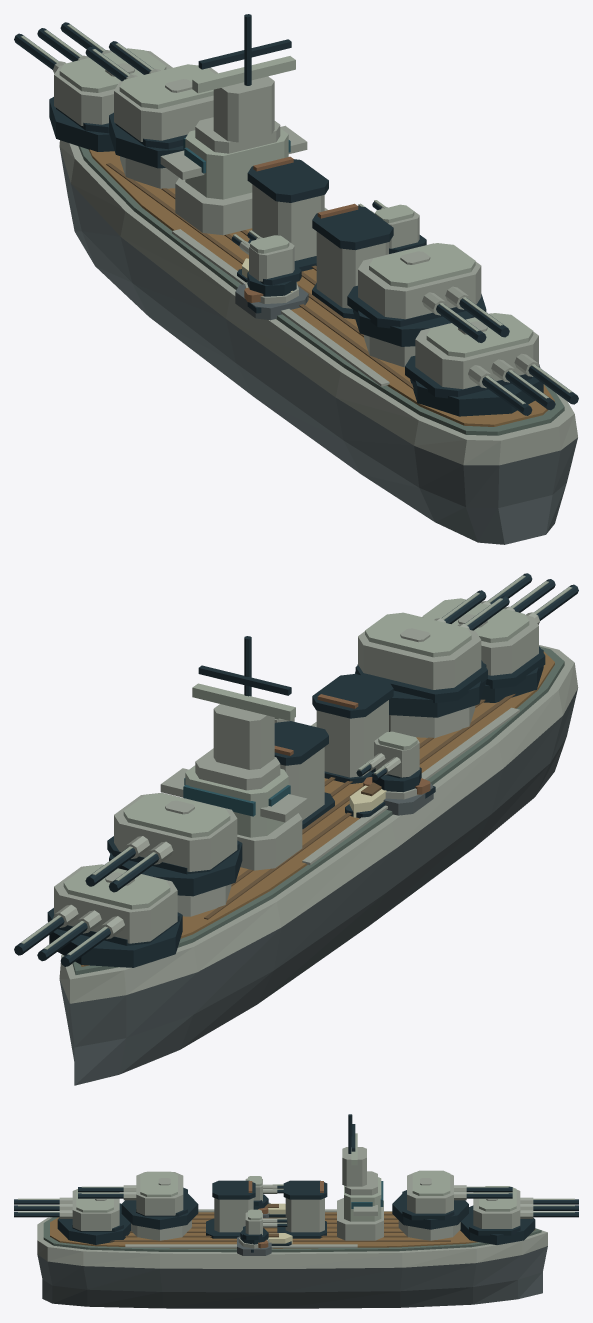
Rendered from historic-giulio-cesare.glb.
3 views of the same model, one above another, from view 1: azimuth 30°, elevation 25°; view 2: azimuth 150°, elevation 25°; view 3: azimuth 270°, elevation 25° (orthographic). The views are drawn at different scales.
Visible parts, largest first — view 1: historic-giulio-cesare-historic-giulio-cesare-geometry, historic-giulio-cesare-part_bridge.038-geometry, historic-giulio-cesare-turret_main_3.014-geometry, historic-giulio-cesare-turret_main_2.026-geometry, historic-giulio-cesare-turret_main_1.027-geometry, historic-giulio-cesare-turret_main_0.028-geometry, historic-giulio-cesare-historic_funnel_0.039-geometry, historic-giulio-cesare-historic_funnel_1.018-geometry, historic-giulio-cesare-turret_aa_aa-port.040-geometry, historic-giulio-cesare-turret_aa_aa-starboard.038-geometry, historic-giulio-cesare-part_aa-port.040-geometry; view 2: historic-giulio-cesare-historic-giulio-cesare-geometry, historic-giulio-cesare-part_bridge.038-geometry, historic-giulio-cesare-turret_main_0.028-geometry, historic-giulio-cesare-turret_main_2.026-geometry, historic-giulio-cesare-turret_main_1.027-geometry, historic-giulio-cesare-turret_main_3.014-geometry, historic-giulio-cesare-historic_funnel_1.018-geometry, historic-giulio-cesare-historic_funnel_0.039-geometry, historic-giulio-cesare-turret_aa_aa-port.040-geometry, historic-giulio-cesare-part_aa-port.040-geometry; view 3: historic-giulio-cesare-historic-giulio-cesare-geometry, historic-giulio-cesare-turret_main_1.027-geometry, historic-giulio-cesare-turret_main_2.026-geometry, historic-giulio-cesare-turret_main_0.028-geometry, historic-giulio-cesare-turret_main_3.014-geometry, historic-giulio-cesare-part_bridge.038-geometry, historic-giulio-cesare-historic_funnel_0.039-geometry, historic-giulio-cesare-historic_funnel_1.018-geometry, historic-giulio-cesare-turret_aa_aa-starboard.038-geometry, historic-giulio-cesare-turret_aa_aa-port.040-geometry, historic-giulio-cesare-part_aa-starboard.038-geometry.
Boxes of the visible parts, x1,y1,x2,y2 form: historic-giulio-cesare-historic-giulio-cesare-geometry: (59,140,577,544); historic-giulio-cesare-part_bridge.038-geometry: (160,14,307,235); historic-giulio-cesare-turret_main_3.014-geometry: (405,313,578,416); historic-giulio-cesare-turret_main_2.026-geometry: (347,243,509,346); historic-giulio-cesare-turret_main_1.027-geometry: (85,41,217,168); historic-giulio-cesare-turret_main_0.028-geometry: (14,22,172,151); historic-giulio-cesare-historic_funnel_0.039-geometry: (247,156,328,271); historic-giulio-cesare-historic_funnel_1.018-geometry: (312,203,393,319); historic-giulio-cesare-turret_aa_aa-port.040-geometry: (231,230,301,296); historic-giulio-cesare-turret_aa_aa-starboard.038-geometry: (358,200,426,253); historic-giulio-cesare-part_aa-port.040-geometry: (235,282,308,320); historic-giulio-cesare-historic-giulio-cesare-geometry: (59,645,578,1085); historic-giulio-cesare-part_bridge.038-geometry: (160,636,307,870); historic-giulio-cesare-turret_main_0.028-geometry: (14,864,182,967); historic-giulio-cesare-turret_main_2.026-geometry: (355,590,509,717); historic-giulio-cesare-turret_main_1.027-geometry: (85,792,242,896); historic-giulio-cesare-turret_main_3.014-geometry: (422,573,578,702); historic-giulio-cesare-historic_funnel_1.018-geometry: (312,674,393,783); historic-giulio-cesare-historic_funnel_0.039-geometry: (274,721,334,829); historic-giulio-cesare-turret_aa_aa-port.040-geometry: (356,731,421,792); historic-giulio-cesare-part_aa-port.040-geometry: (383,778,433,815); historic-giulio-cesare-historic-giulio-cesare-geometry: (37,1203,547,1308); historic-giulio-cesare-turret_main_1.027-geometry: (392,1170,512,1229); historic-giulio-cesare-turret_main_2.026-geometry: (78,1171,198,1229); historic-giulio-cesare-turret_main_0.028-geometry: (460,1186,578,1244); historic-giulio-cesare-turret_main_3.014-geometry: (14,1189,130,1244); historic-giulio-cesare-part_bridge.038-geometry: (337,1114,383,1240); historic-giulio-cesare-historic_funnel_0.039-geometry: (277,1180,327,1238); historic-giulio-cesare-historic_funnel_1.018-geometry: (206,1180,255,1238); historic-giulio-cesare-turret_aa_aa-starboard.038-geometry: (240,1209,287,1244); historic-giulio-cesare-turret_aa_aa-port.040-geometry: (245,1176,283,1209); historic-giulio-cesare-part_aa-starboard.038-geometry: (237,1236,271,1255).
Size of the model in its own units: 1.09 by 1.84 by 5.3.
